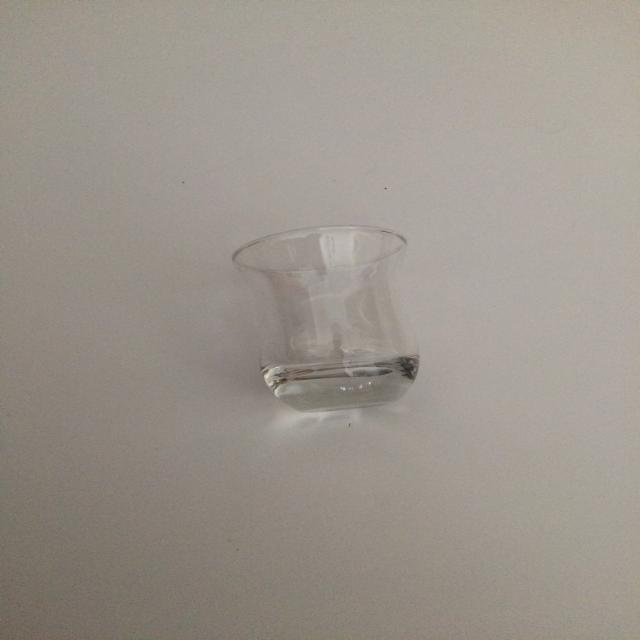glass: (221, 224, 444, 414)
